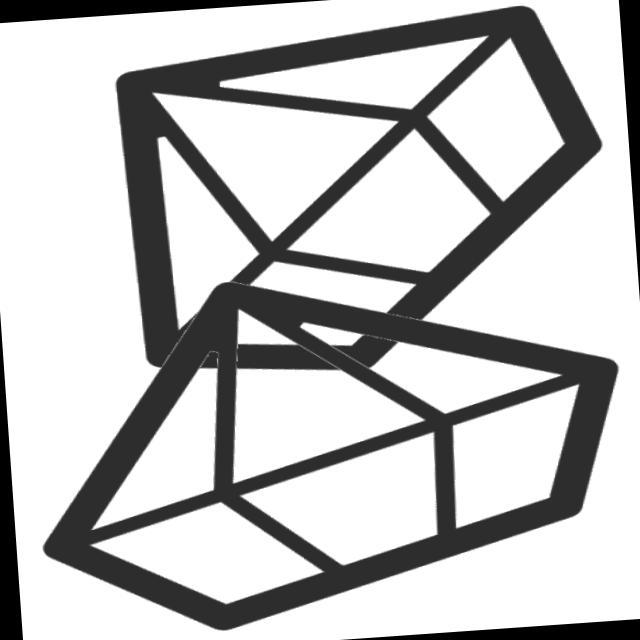diamond: (12, 240, 640, 640), (93, 1, 626, 397)
